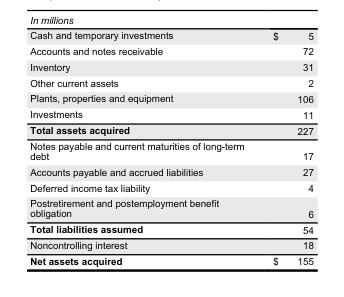table: (29, 29, 312, 266)
table column: (29, 29, 257, 266), (257, 29, 312, 266)
table row: (29, 195, 312, 221), (29, 138, 312, 163), (29, 42, 312, 58), (29, 58, 312, 74), (29, 74, 312, 90), (29, 90, 312, 106), (29, 106, 312, 122), (29, 122, 312, 138), (29, 163, 312, 179), (29, 179, 312, 195), (29, 236, 312, 252), (29, 221, 312, 236), (29, 252, 312, 266), (29, 29, 312, 42)
